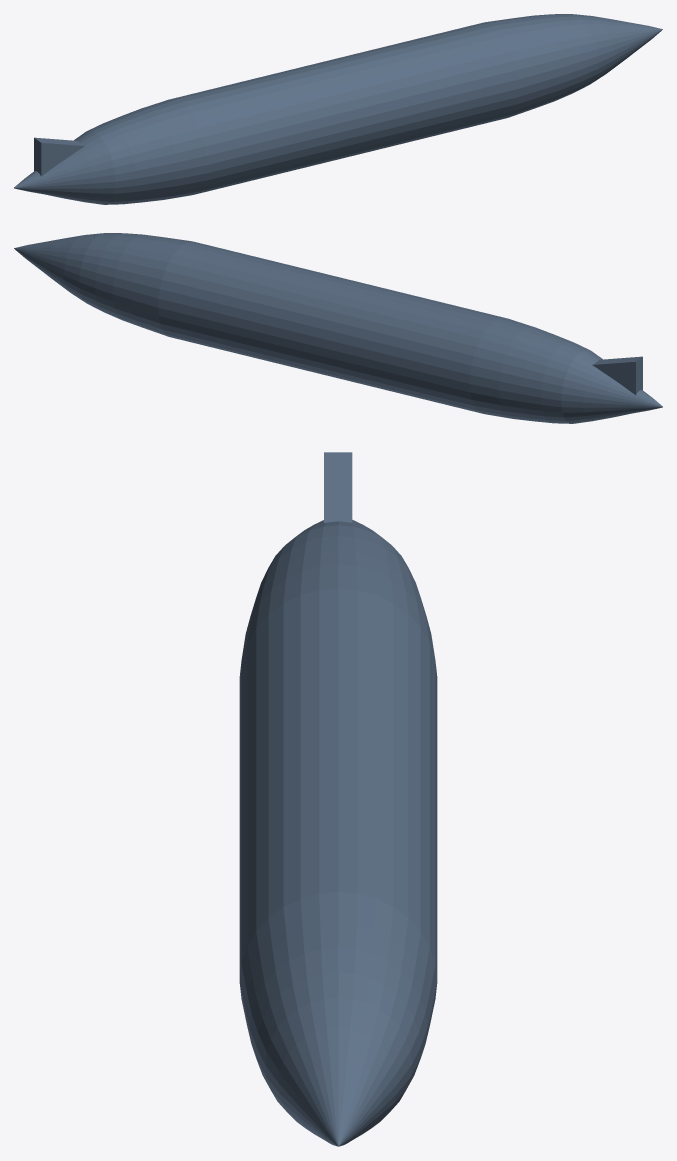
3 views of the same model, one above another, from view 1: azimuth 30°, elevation 25°; view 2: azimuth 150°, elevation 25°; view 3: azimuth 270°, elevation 25° (orthographic). The views are drawn at different scales.
Parts seen in each view (by area): view 1: 円柱.002, 立方体.011; view 2: 円柱.002, 立方体.011; view 3: 円柱.002, 立方体.011.
Boxes of the visible parts, x1=… form: 円柱.002: x1=14, y1=14, x2=662, y2=204; 立方体.011: x1=34, y1=137, x2=84, y2=176; 円柱.002: x1=14, y1=233, x2=662, y2=423; 立方体.011: x1=592, y1=356, x2=642, y2=395; 円柱.002: x1=239, y1=520, x2=437, y2=1146; 立方体.011: x1=324, y1=452, x2=352, y2=522.
Bounding box in the file's own units: 5.41 × 0.7163 × 0.7141.
